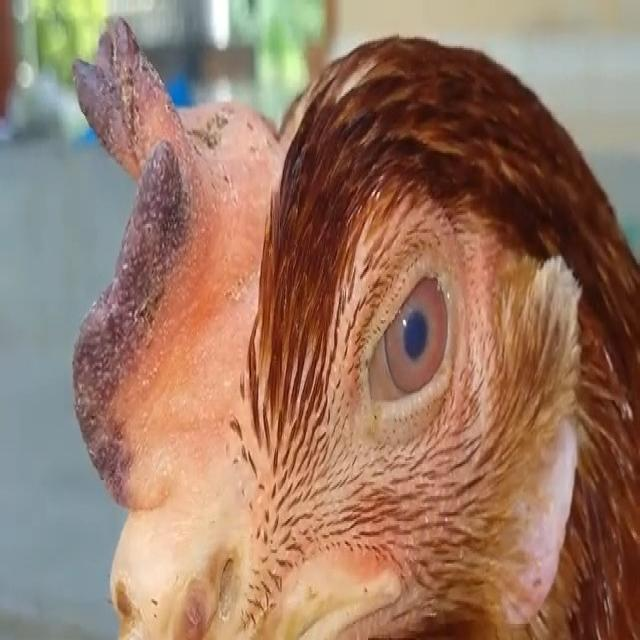bird flu: (51, 25, 640, 640)
